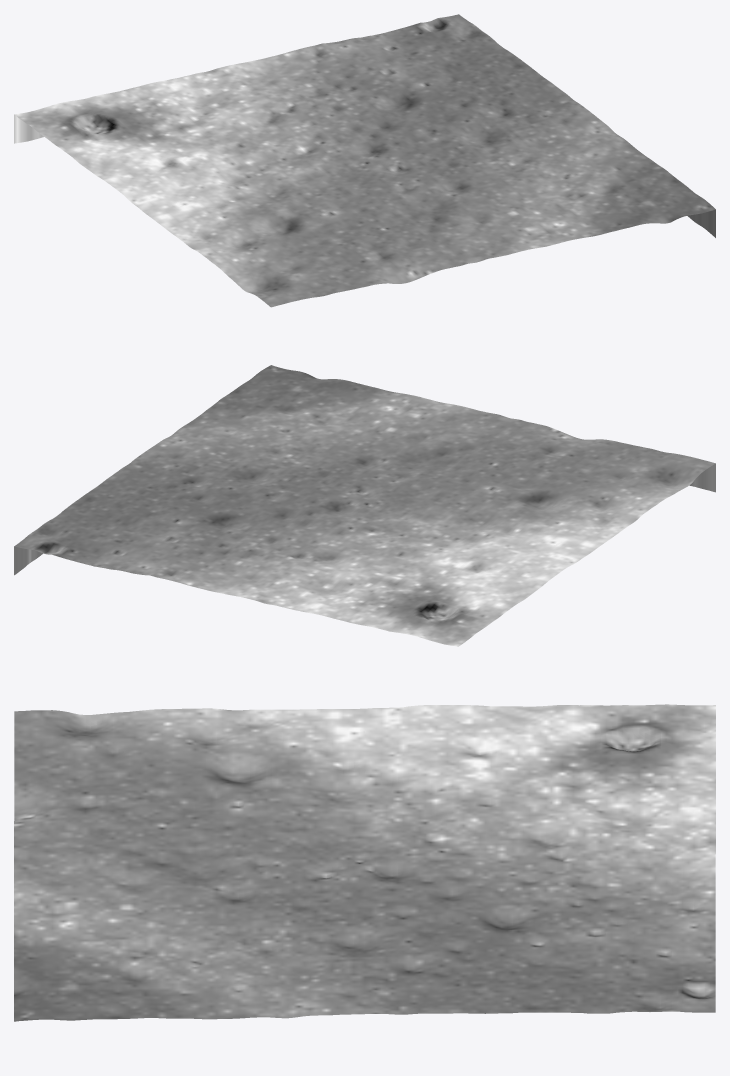
The picture shows the model from 3 angles, top to bottom: view 1: azimuth 30°, elevation 25°; view 2: azimuth 150°, elevation 25°; view 3: azimuth 270°, elevation 25°; orthographic projection. The views are drawn at different scales.
Size of the model in its own units: 1277 by 130 by 1279.
Materials: 1 (1 with a texture image).
